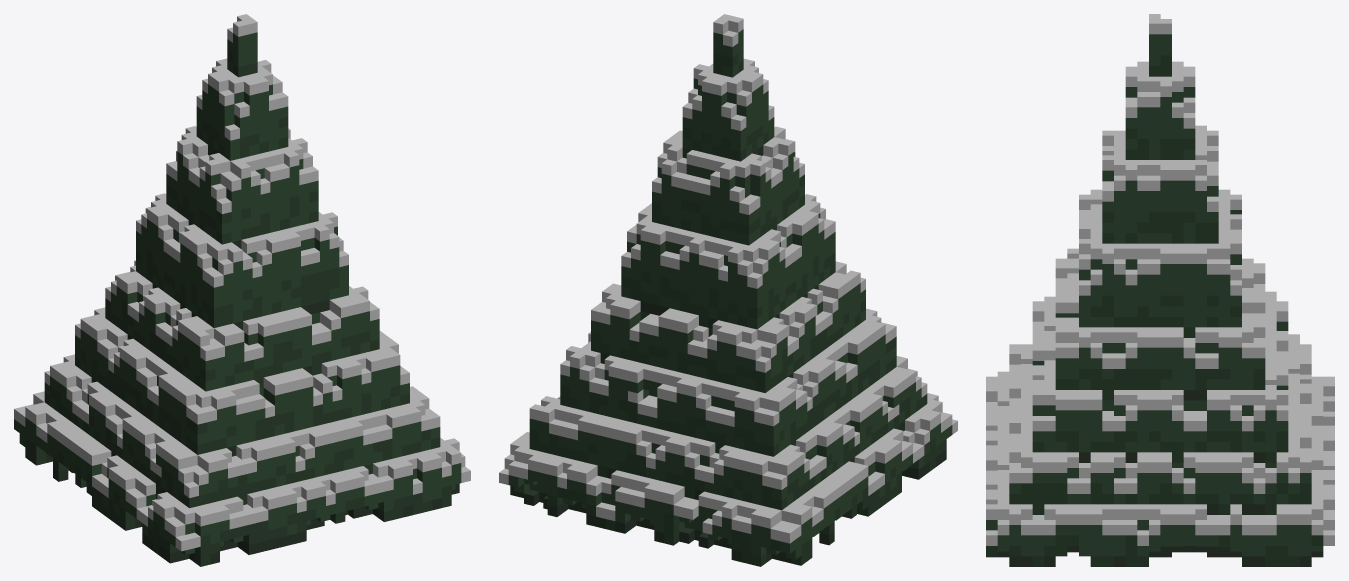
The model's file is Tree8-1.obj.
3 views of the same model, side by side, from view 1: azimuth 30°, elevation 25°; view 2: azimuth 150°, elevation 25°; view 3: azimuth 270°, elevation 25° (orthographic). The views are drawn at different scales.
Size of the model in its own units: 3 by 4.5 by 3.
1 material, 1 textured.
